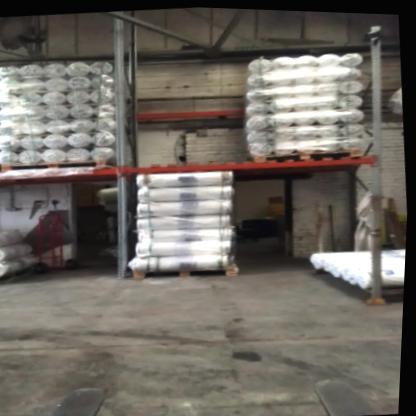vertical_damage: (114, 256, 140, 282)
